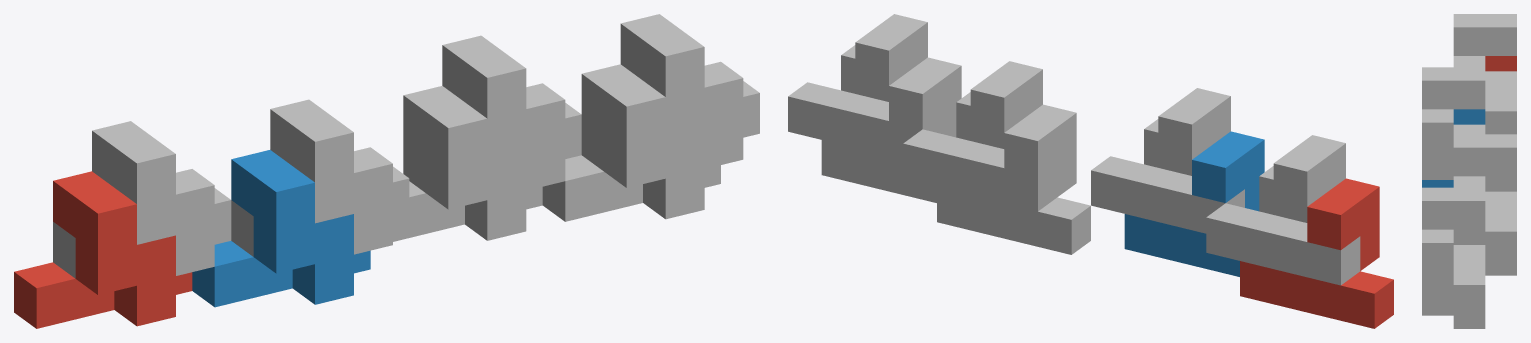
File: tiling.obj
3 views of the same model, side by side, from view 1: azimuth 30°, elevation 25°; view 2: azimuth 150°, elevation 25°; view 3: azimuth 270°, elevation 25° (orthographic). The views are drawn at different scales.
Visible parts, largest first — view 1: copy_1_domain_1, copy_1_domain_6, copy_1_domain_2, copy_1_domain_5, copy_1_domain_8, copy_1_domain_7, copy_1_domain_4, copy_1_domain_3; view 2: copy_1_domain_3, copy_1_domain_7, copy_1_domain_4, copy_1_domain_8, copy_1_domain_5, copy_1_domain_1, copy_1_domain_6, copy_1_domain_2; view 3: copy_1_domain_8, copy_1_domain_7, copy_1_domain_4, copy_1_domain_3, copy_1_domain_6, copy_1_domain_5, copy_1_domain_2, copy_1_domain_1.
Boxes of the visible parts, <box> form: copy_1_domain_1: <box>14,171,192,328</box>; copy_1_domain_6: <box>542,64,720,221</box>; copy_1_domain_2: <box>192,150,370,307</box>; copy_1_domain_5: <box>393,86,542,241</box>; copy_1_domain_8: <box>581,14,759,171</box>; copy_1_domain_7: <box>403,35,581,192</box>; copy_1_domain_4: <box>231,99,409,256</box>; copy_1_domain_3: <box>53,121,231,278</box>; copy_1_domain_3: <box>1206,135,1360,285</box>; copy_1_domain_7: <box>903,61,1057,211</box>; copy_1_domain_4: <box>1091,88,1244,233</box>; copy_1_domain_8: <box>788,14,941,159</box>; copy_1_domain_5: <box>937,104,1090,254</box>; copy_1_domain_1: <box>1240,178,1393,328</box>; copy_1_domain_6: <box>821,57,961,202</box>; copy_1_domain_2: <box>1124,131,1264,276</box>; copy_1_domain_8: <box>1422,187,1485,313</box>; copy_1_domain_7: <box>1453,134,1516,260</box>; copy_1_domain_4: <box>1422,67,1485,179</box>; copy_1_domain_3: <box>1453,14,1516,134</box>; copy_1_domain_6: <box>1422,229,1485,328</box>; copy_1_domain_5: <box>1485,176,1516,275</box>; copy_1_domain_2: <box>1422,109,1485,187</box>; copy_1_domain_1: <box>1485,56,1516,71</box>.
Bounding box in the file's own units: 18 × 4 × 3.
